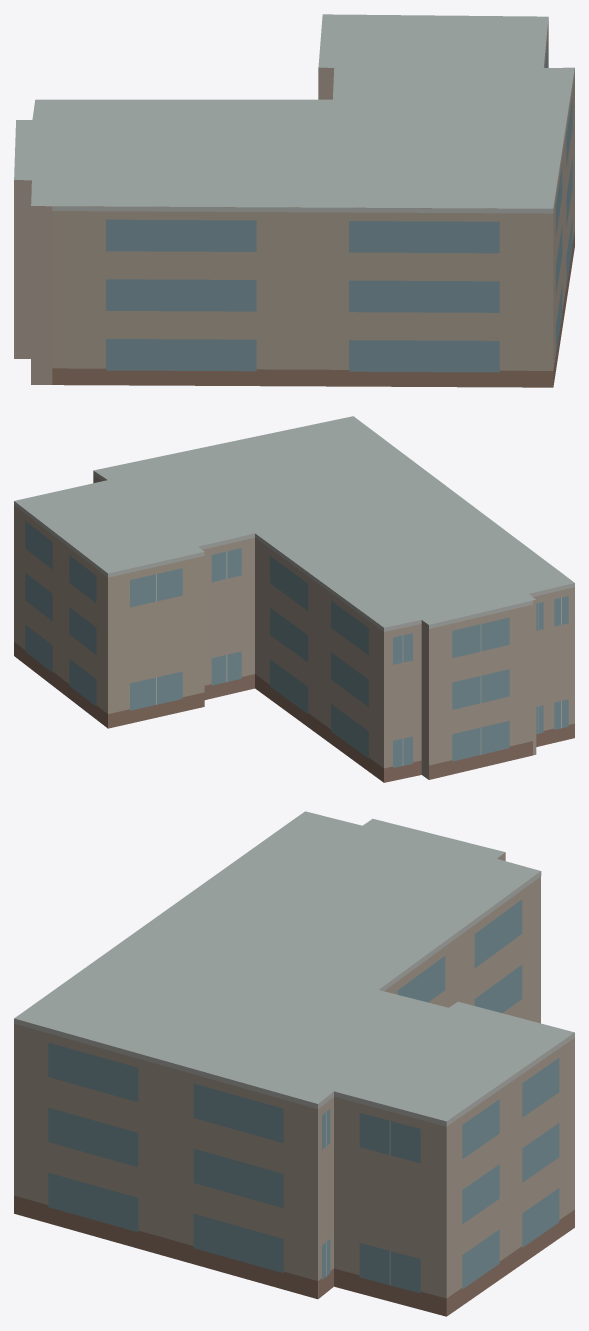
The model's file is survey-upis-32993223.glb.
3 renders of one model, top to bottom at view 1: azimuth 30°, elevation 25°; view 2: azimuth 150°, elevation 25°; view 3: azimuth 270°, elevation 25°, orthographic. The views are drawn at different scales.
Parts seen in each view (by area): view 1: survey-upis-32993223.tmp; view 2: survey-upis-32993223.tmp; view 3: survey-upis-32993223.tmp.
Boxes of the visible parts, x1,y1,x2,y2 form: survey-upis-32993223.tmp: (14,14,574,387); survey-upis-32993223.tmp: (14,416,574,782); survey-upis-32993223.tmp: (14,811,574,1316).
Size of the model in its own units: 31.19 by 9.15 by 23.83.
